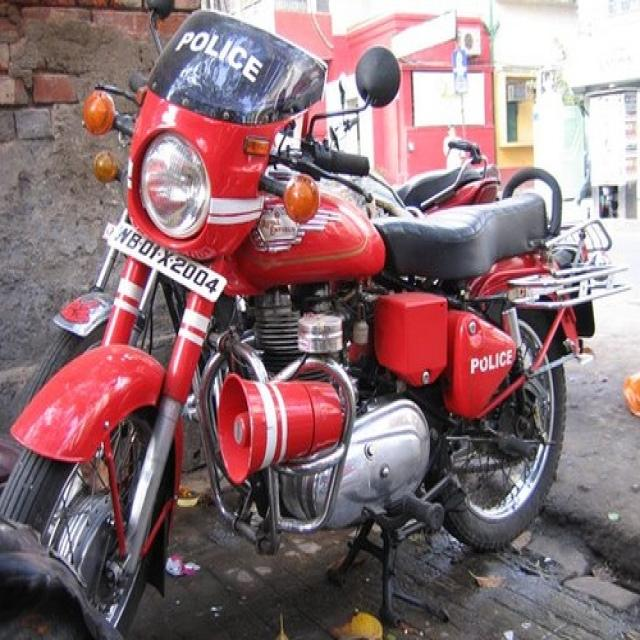motorbike: (0, 9, 631, 638)
